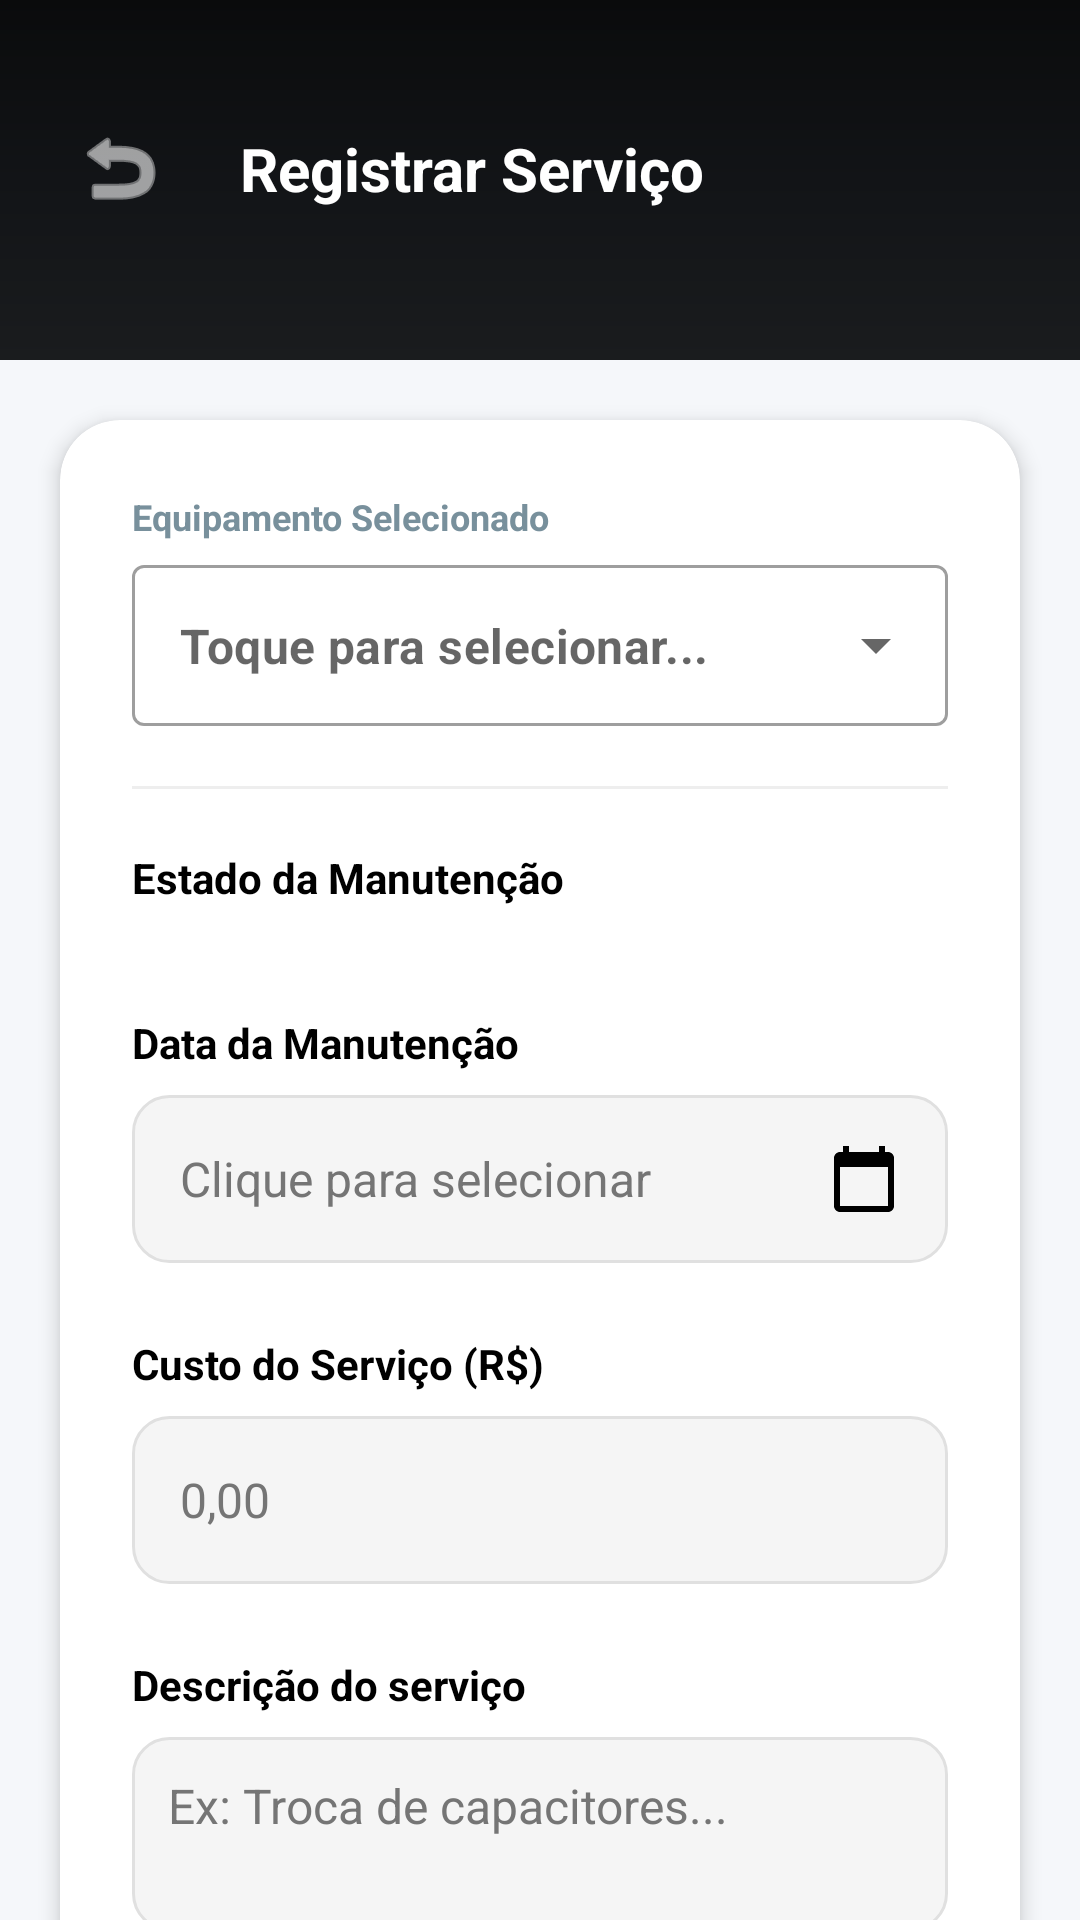

Screen size 1080w x 1920h. Icon name, then its box in pixels as box=[x1, y1, x2, y2]:
revert: box=[87, 137, 156, 200]
